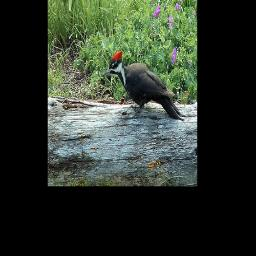Woodpecker: (102, 50, 184, 119)
